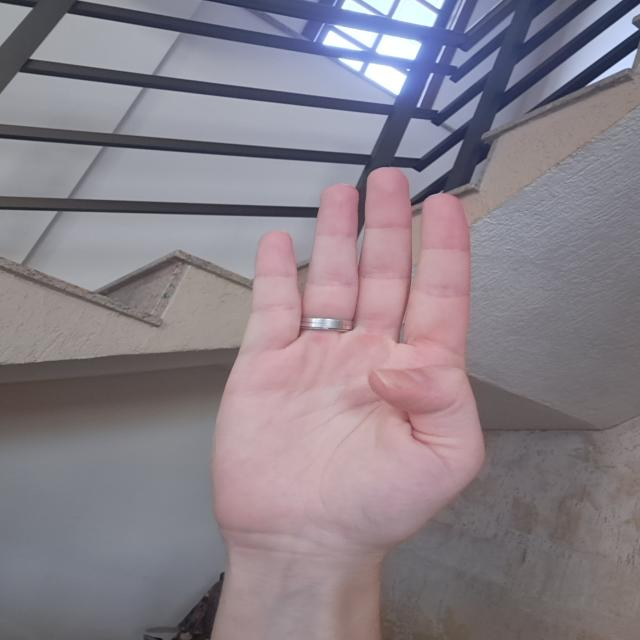B: (206, 161, 492, 531)
